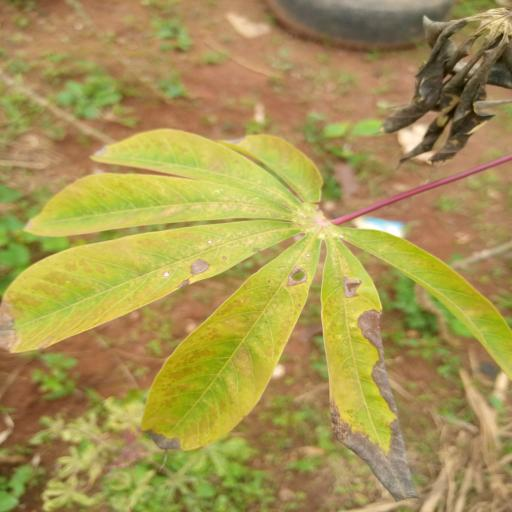Cassava_Mosaic: (0, 128, 512, 498)
